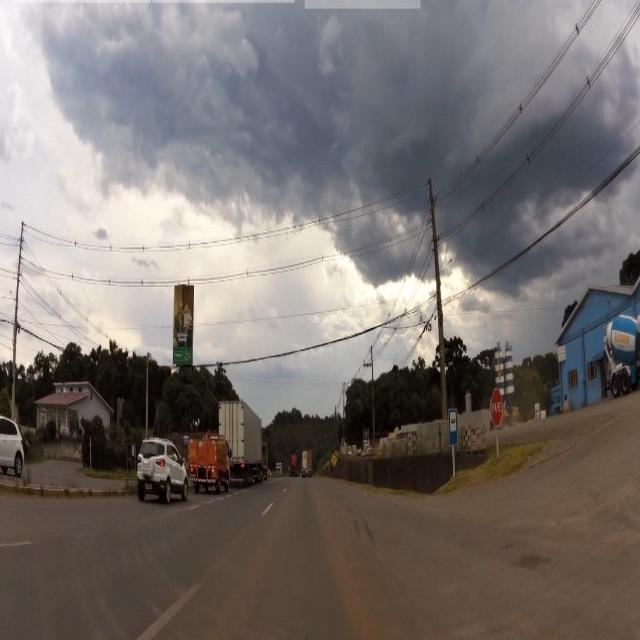R-1: (491, 387, 504, 428)
S-14: (448, 408, 458, 446)
